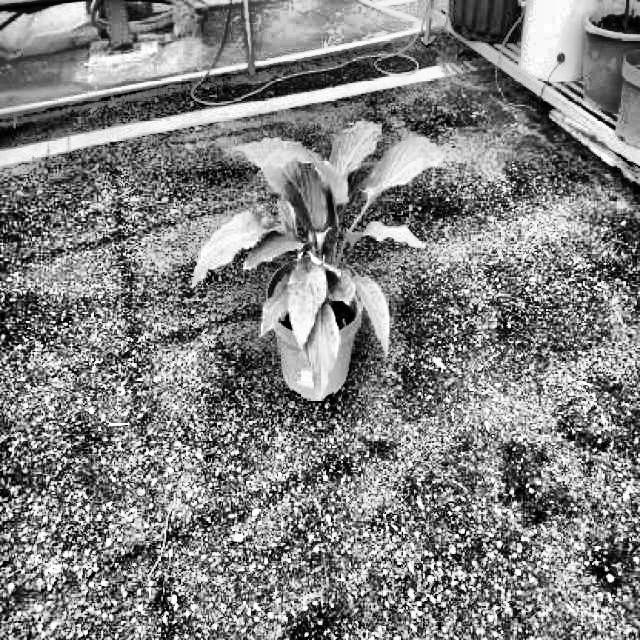plants: (189, 121, 445, 404)
